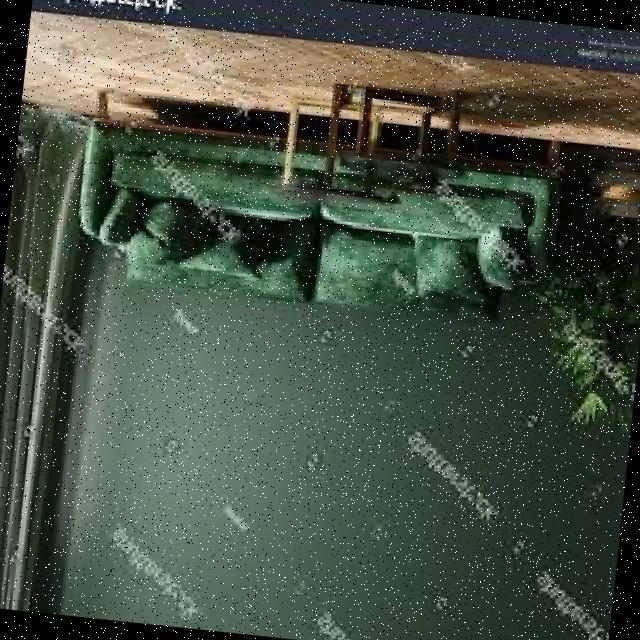Sofa: (47, 60, 600, 362)
